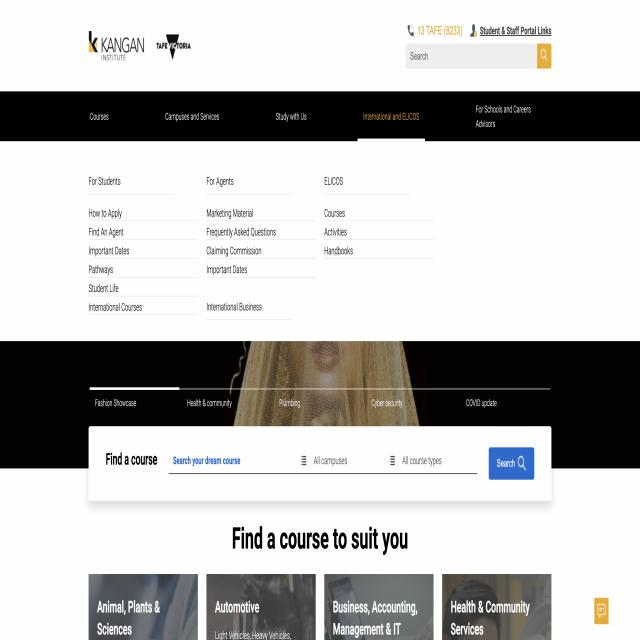Logo: (72, 24, 151, 74)
Navigation: (72, 94, 539, 140)
